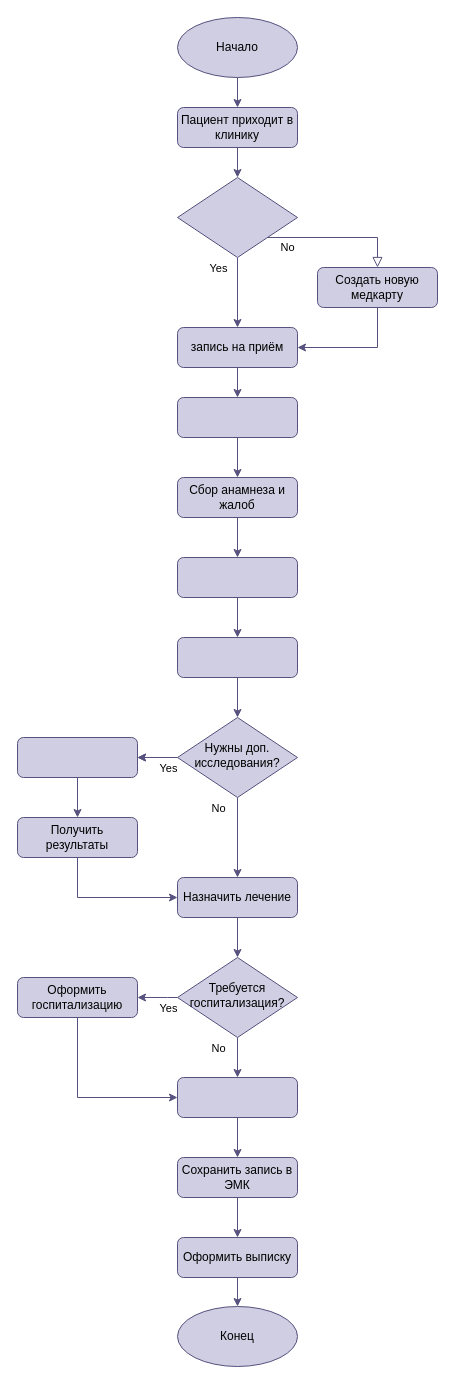
Some shapes in this 455 by 1384 pixel diagram are drawn without their labels. Here are the shapes that lost their labels. From the top down, the box of each, then its label:
(176, 176, 298, 258): Пациент есть в бд?
(176, 396, 298, 438): Врач открывает ЭМК
(176, 556, 298, 598): Осмотр пациента
(176, 636, 298, 678): Постановка диагноза
(16, 736, 138, 778): Направить на ЛДМ
(176, 1076, 298, 1118): Выписать рецепты
